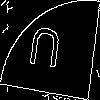U: (25, 25, 64, 78)
